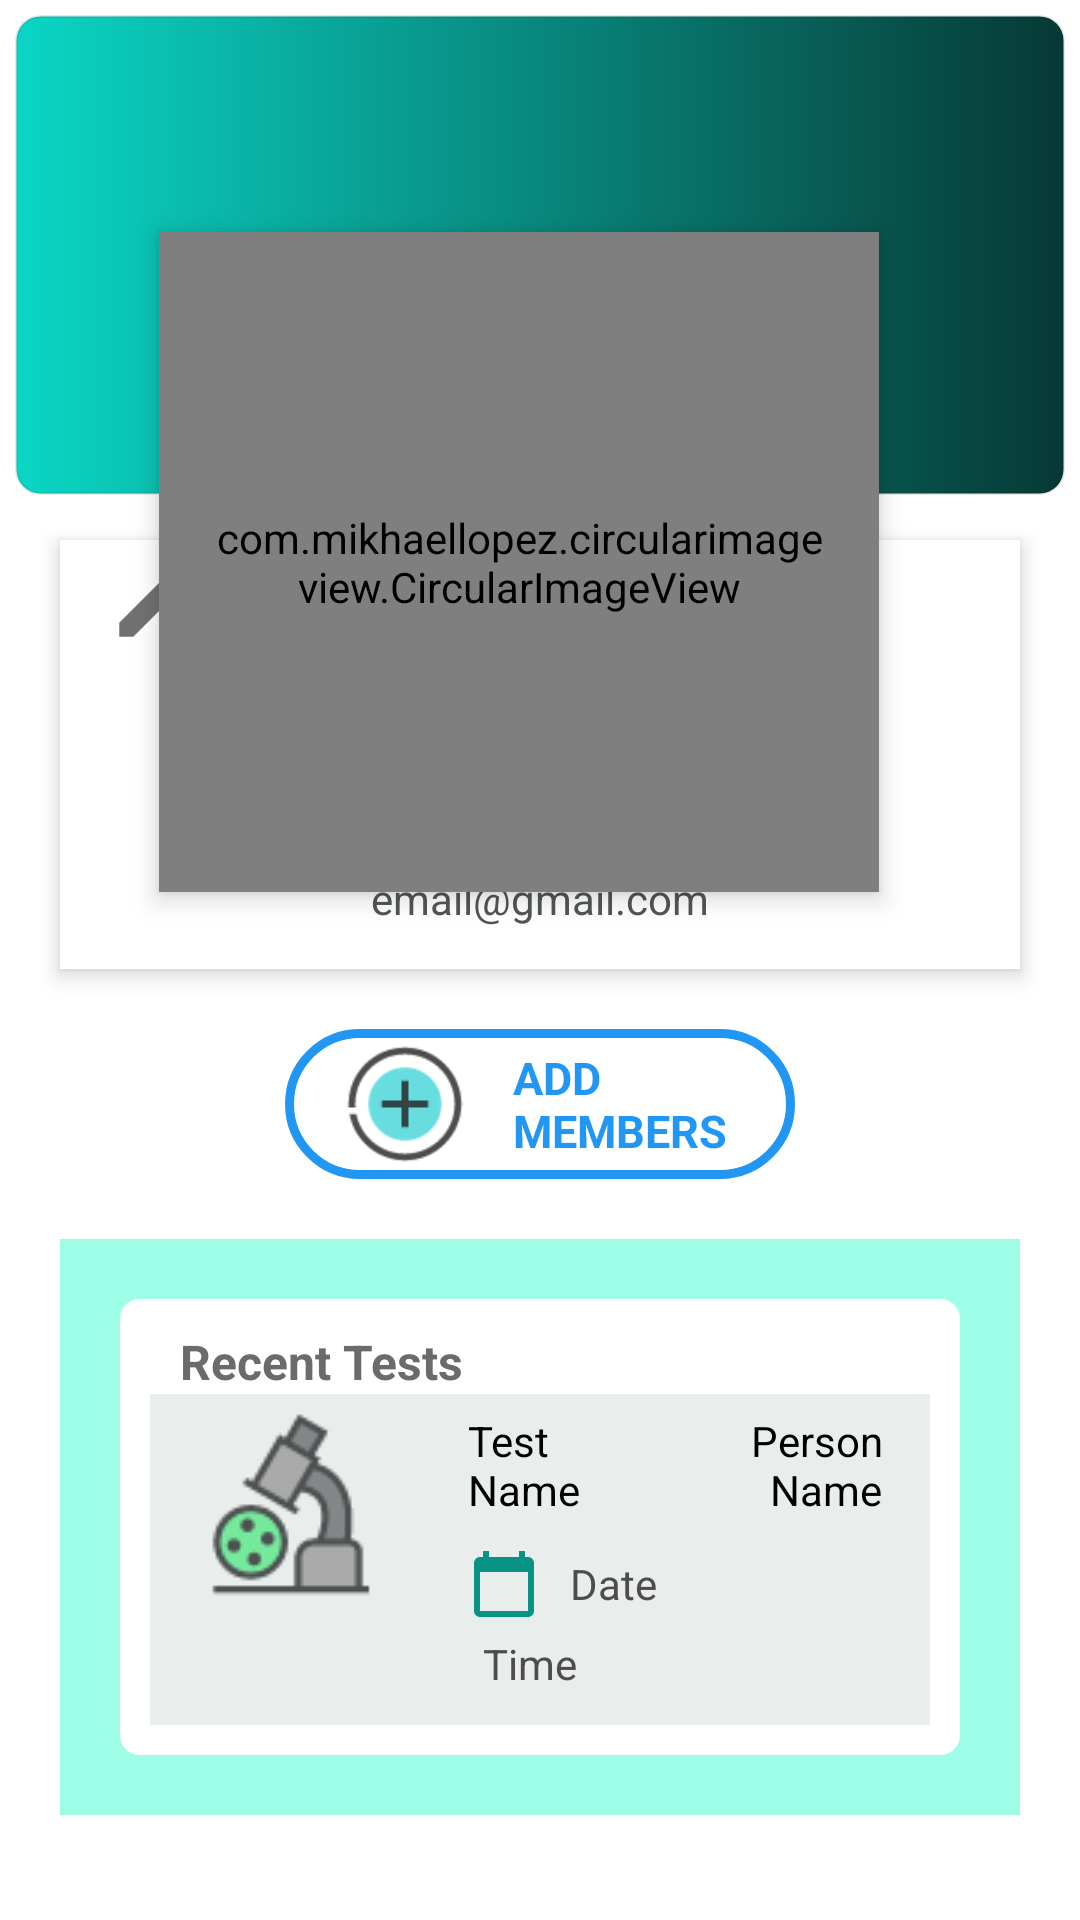

Named icons in this screenshot (1080w x 1920h) and their bounding boxes, (x1, y1, x2, y2):
pathology: (212, 1414, 370, 1595)
